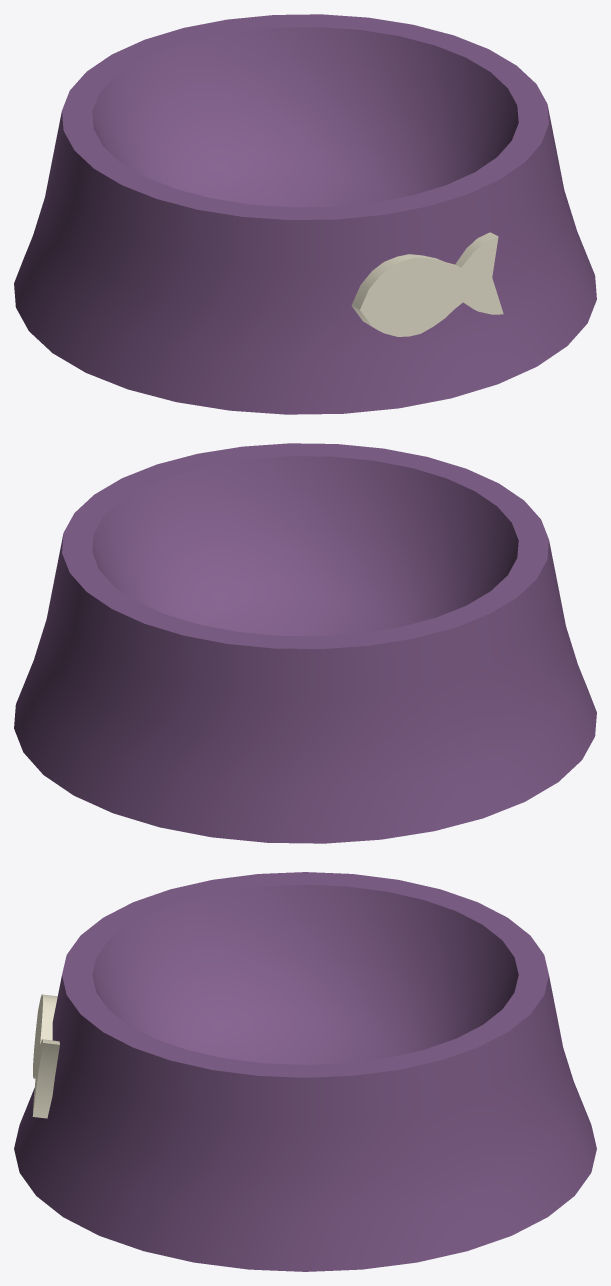
The model's file is bowl.fbx.
3 views of the same model, one above another, from view 1: azimuth 30°, elevation 25°; view 2: azimuth 150°, elevation 25°; view 3: azimuth 270°, elevation 25° (orthographic).
Parts seen in each view (by area): view 1: bowl; view 2: bowl; view 3: bowl.
Part boxes in pixels (x1,y1,x2,y2): bowl: (14,14,596,414); bowl: (14,443,596,843); bowl: (14,872,596,1271).
Size of the model in its own units: 0.3086 by 0.1015 by 0.3086.
